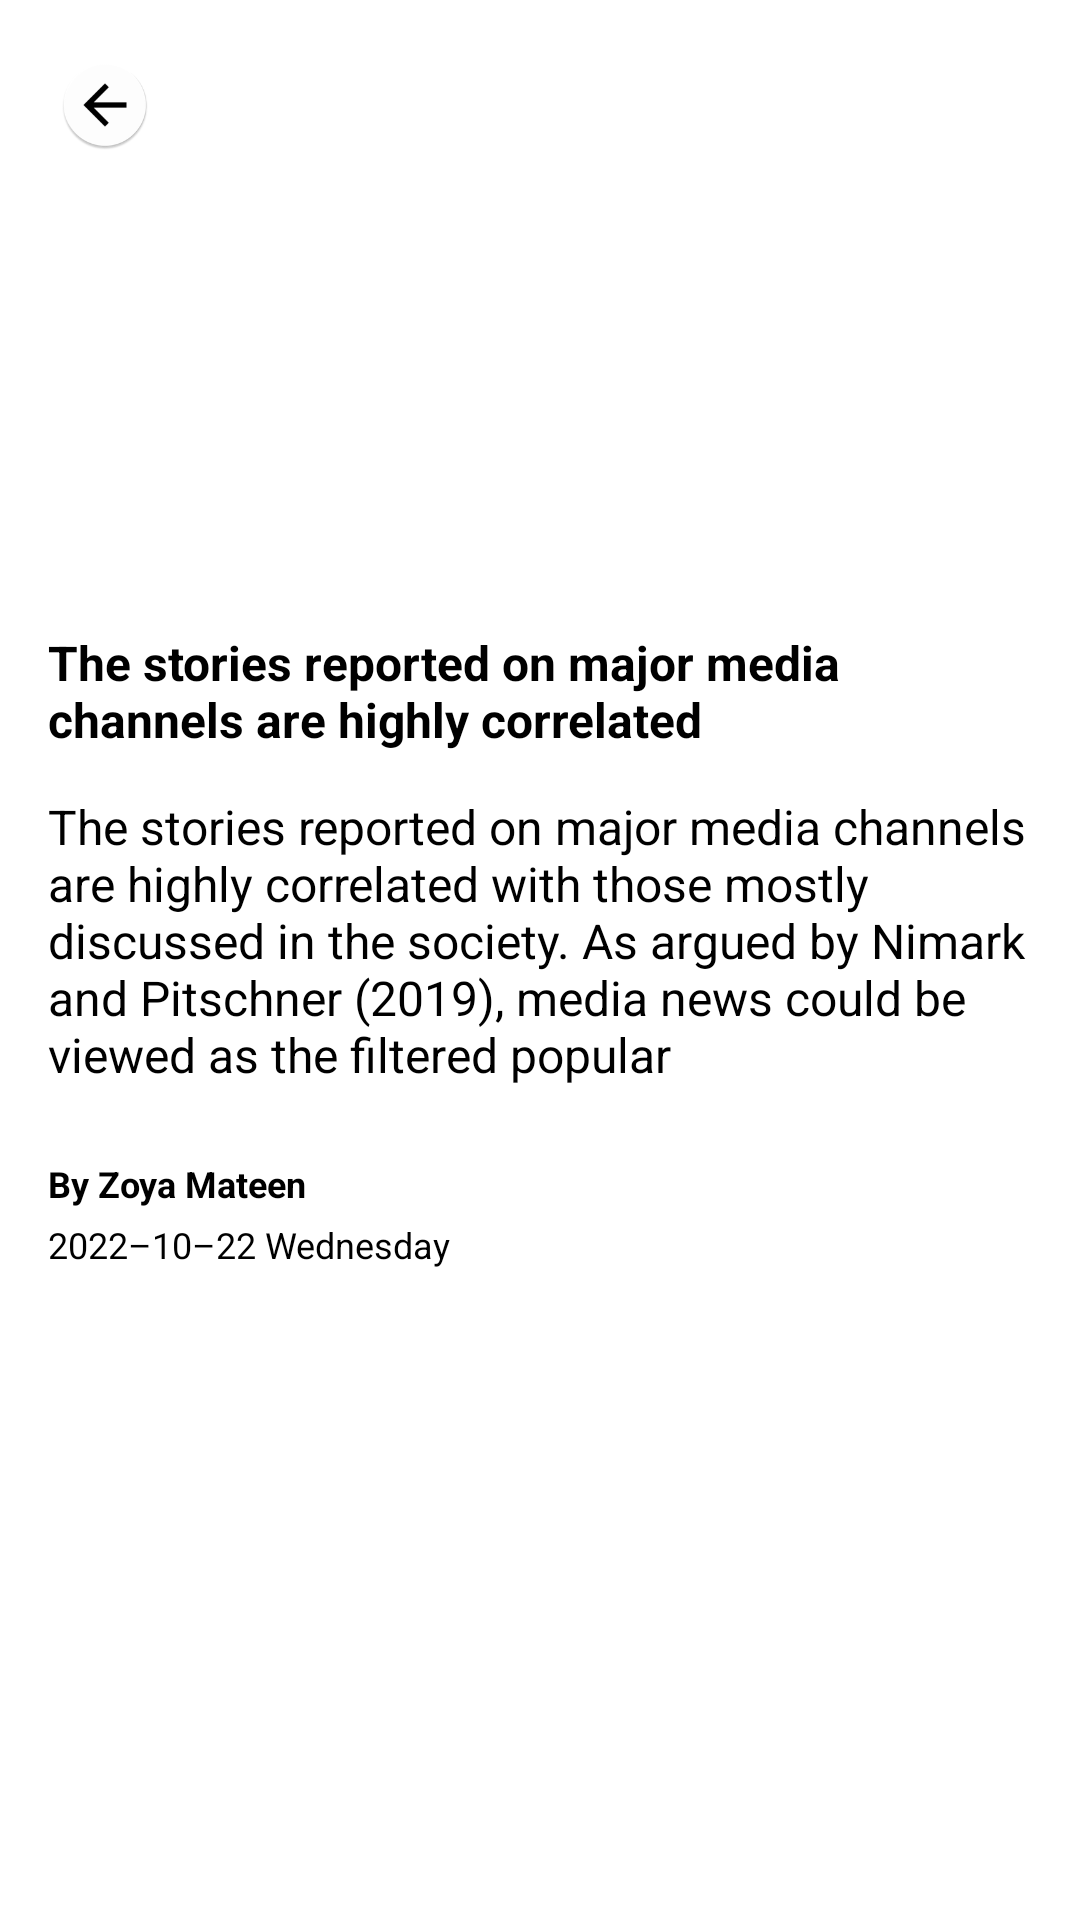

Icon click points for this 1080w x 1920h phone screenshot, format (x,y):
back round: (106,115)
